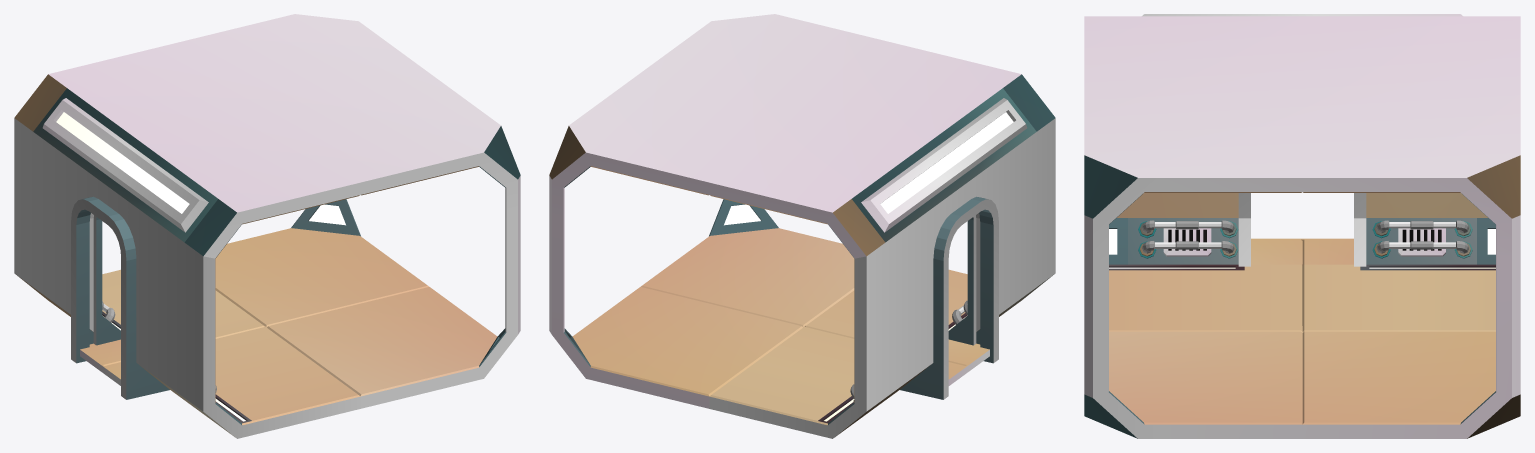
The model's file is C_3_branch_DoorRoom.fbx.
3 views of the same model, side by side, from view 1: azimuth 30°, elevation 25°; view 2: azimuth 150°, elevation 25°; view 3: azimuth 270°, elevation 25° (orthographic). The views are drawn at different scales.
Parts seen in each view (by area): view 1: C_3_branch_DoorRoom; view 2: C_3_branch_DoorRoom; view 3: C_3_branch_DoorRoom.
Part boxes in pixels (x1,y1,x2,y2): C_3_branch_DoorRoom: (14, 14, 520, 438); C_3_branch_DoorRoom: (549, 14, 1055, 438); C_3_branch_DoorRoom: (1084, 14, 1520, 438).
Bounding box in the file's own units: 505 × 330 × 500.
